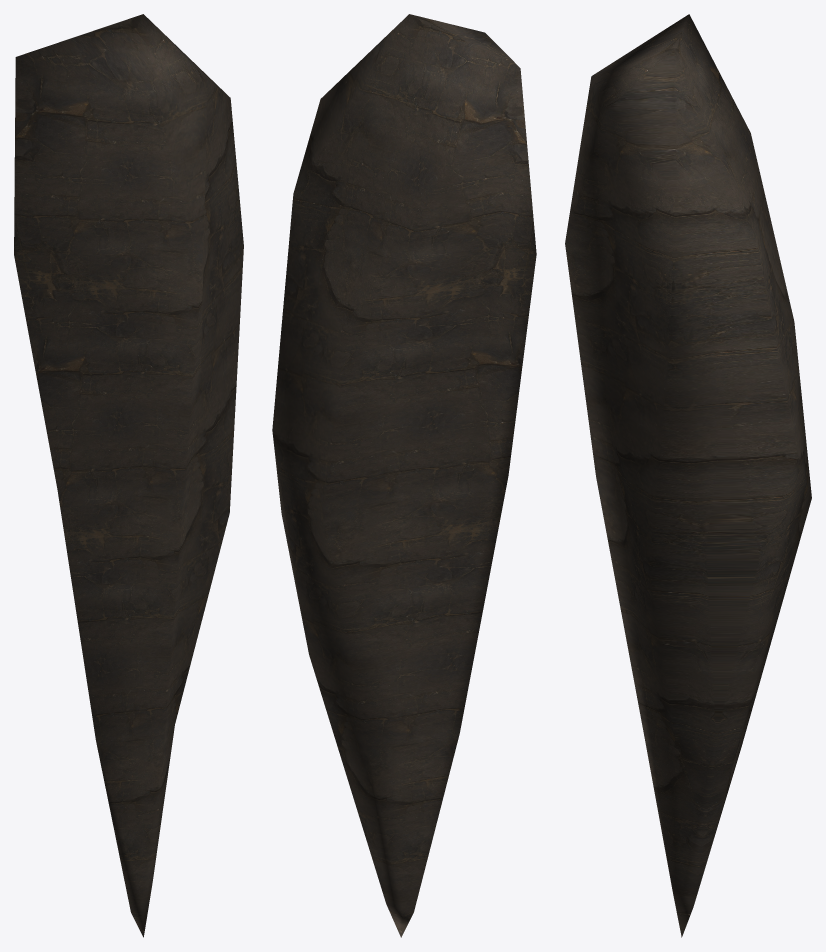
Rendered from cliff_fang_a_lod3.gltf.
3 renders of one model, left to right at view 1: azimuth 30°, elevation 25°; view 2: azimuth 150°, elevation 25°; view 3: azimuth 270°, elevation 25°, orthographic. The views are drawn at different scales.
Parts seen in each view (by area): view 1: cliff_fang_a_LOD3; view 2: cliff_fang_a_LOD3; view 3: cliff_fang_a_LOD3.
Part boxes in pixels (x1,y1,x2,y2): cliff_fang_a_LOD3: [14, 14, 243, 937]; cliff_fang_a_LOD3: [272, 14, 536, 937]; cliff_fang_a_LOD3: [565, 14, 811, 937].
Bounding box in the file's own units: 7.7 × 30 × 7.59.
Materials: 1 (1 with a texture image).
